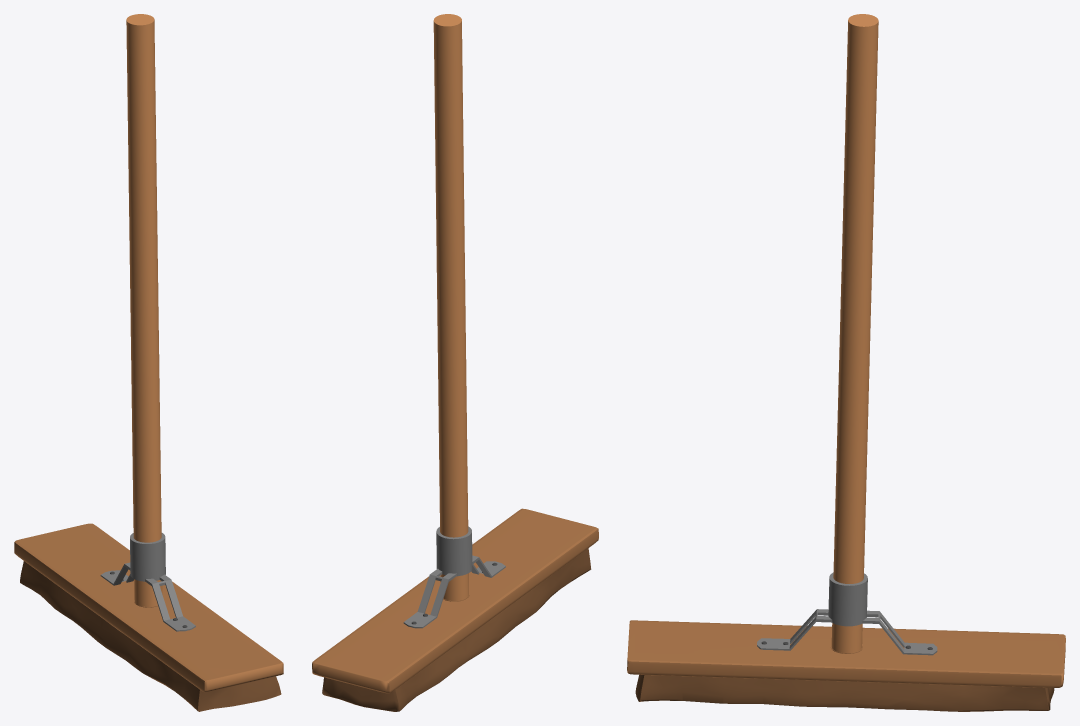
The model's file is bezem (1).fbx.
3 renders of one model, left to right at view 1: azimuth 30°, elevation 25°; view 2: azimuth 150°, elevation 25°; view 3: azimuth 270°, elevation 25°, orthographic. The views are drawn at different scales.
Parts seen in each view (by area): view 1: Cylinder, Cube, Cube.001, Cylinder.001, Cube.002; view 2: Cube, Cylinder, Cube.001, Cylinder.001, Cube.003; view 3: Cube, Cylinder, Cube.001, Cylinder.001, Cube.003, Cube.002.
Part boxes in pixels (<box>): Cylinder: <box>126,14,162,606</box>; Cube: <box>14,523,283,692</box>; Cube.001: <box>20,561,281,711</box>; Cylinder.001: <box>130,533,165,581</box>; Cube.002: <box>145,574,195,631</box>; Cube: <box>312,508,598,693</box>; Cylinder: <box>433,14,468,600</box>; Cube.001: <box>322,548,591,711</box>; Cylinder.001: <box>436,526,472,576</box>; Cube.003: <box>403,568,456,628</box>; Cube: <box>627,620,1065,687</box>; Cylinder: <box>831,14,878,653</box>; Cube.001: <box>635,674,1054,711</box>; Cylinder.001: <box>828,572,867,626</box>; Cube.003: <box>862,610,937,655</box>; Cube.002: <box>757,609,832,650</box>.
Bounding box in the file's own units: 91.39 × 612 × 363.
